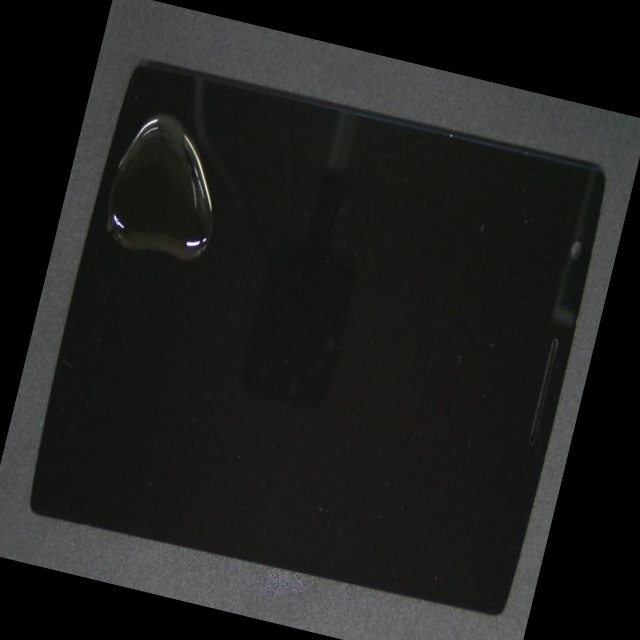oil: (107, 162, 300, 376)
